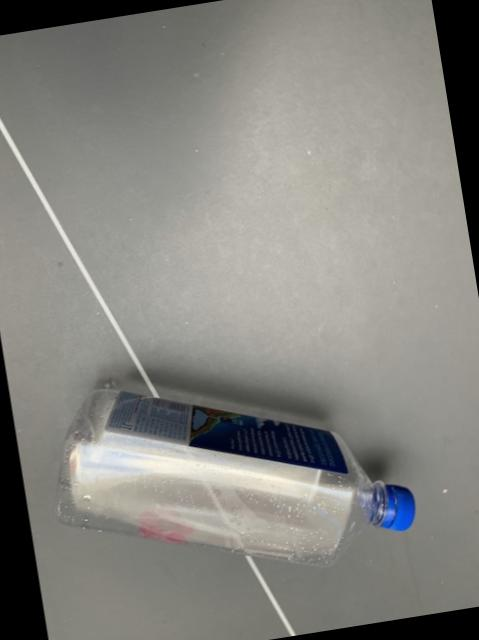plastic: (54, 389, 413, 565)
